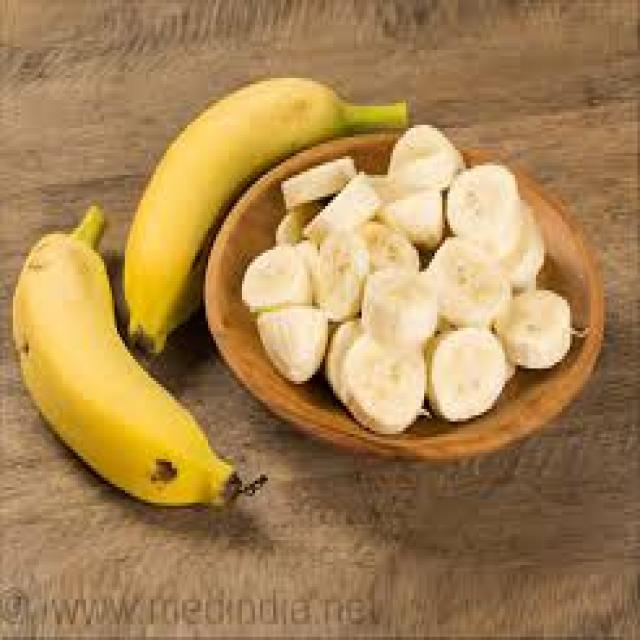banana: (122, 75, 408, 356), (10, 203, 263, 509), (442, 173, 524, 239), (371, 271, 440, 337), (264, 313, 324, 376), (246, 246, 304, 294)
